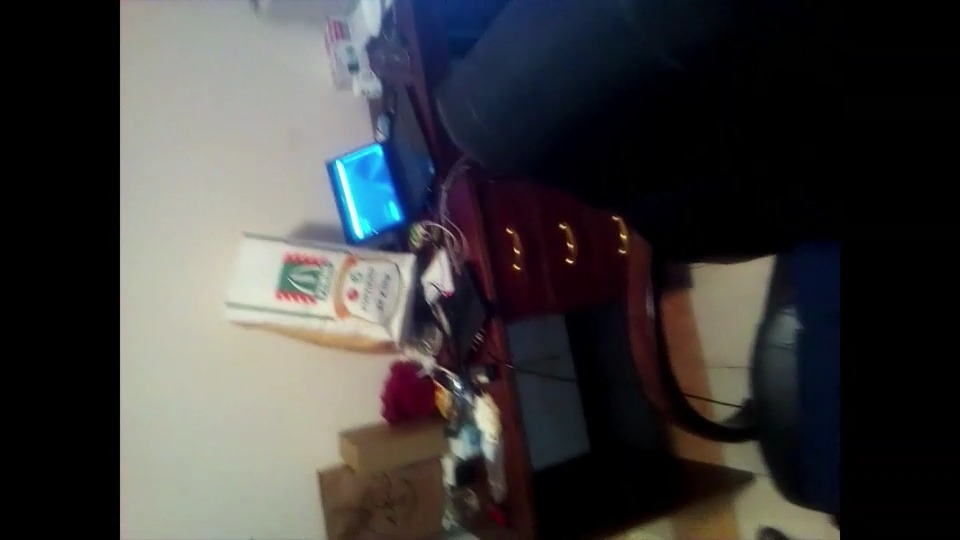maize_flour_green_label: (223, 233, 416, 346)
